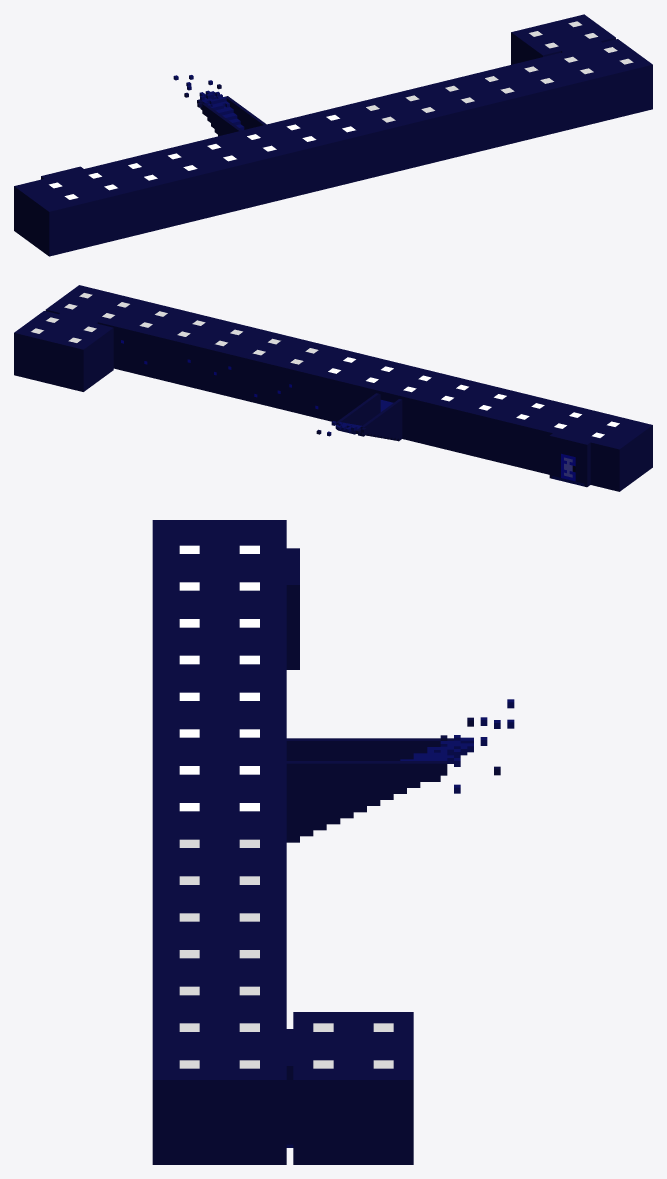
3 views of the same model, one above another, from view 1: azimuth 30°, elevation 25°; view 2: azimuth 150°, elevation 25°; view 3: azimuth 270°, elevation 25° (orthographic). The views are drawn at different scales.
Parts seen in each view (by area): view 1: Ib Blue Room closed-0, Ib Blue Room closed-1; view 2: Ib Blue Room closed-0, Ib Blue Room closed-1; view 3: Ib Blue Room closed-1, Ib Blue Room closed-0.
Part boxes in pixels (x1,y1,x2,y2): Ib Blue Room closed-0: [14, 75, 363, 256]; Ib Blue Room closed-1: [328, 14, 652, 179]; Ib Blue Room closed-0: [316, 352, 652, 491]; Ib Blue Room closed-1: [14, 285, 353, 418]; Ib Blue Room closed-1: [152, 811, 413, 1164]; Ib Blue Room closed-0: [152, 520, 514, 842].
Size of the model in its own units: 53.58 by 4.87 by 14.61.
